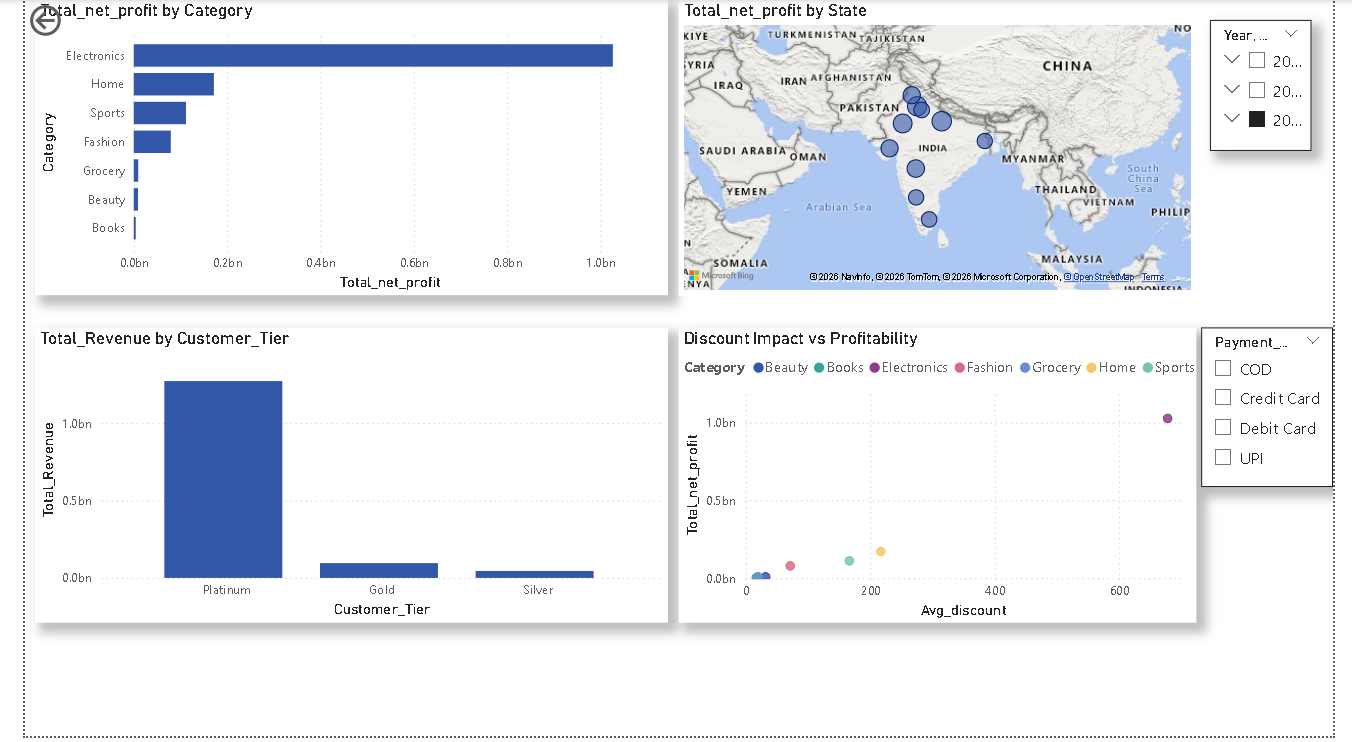

The page's visual inventory and layout, read from the dashboard file:
{"tool":"powerbi","page":{"name":"Market and Customer Analytics","canvas":[1280,720],"ordinal":1},"visuals":[{"type":"clusteredBarChart","fields":{"Category":["indian_commerce_db products.Category"],"Y":["indian_commerce_db sales.Total_net_profit"]},"box":[10,0,619,289],"z":0},{"type":"actionButton","box":[0,0,100,40],"z":1000},{"type":"map","fields":{"Category":["indian_commerce_db sales.State"],"Size":["indian_commerce_db sales.Total_net_profit"]},"box":[640,0,506,289],"z":2000},{"type":"clusteredColumnChart","fields":{"Category":["indian_commerce_db customers.Customer_Tier"],"Y":["indian_commerce_db sales.Total_Revenue"]},"box":[10,320,619,289],"z":3000},{"type":"scatterChart","title":"Discount Impact vs Profitability","fields":{"X":["indian_commerce_db sales.Avg_discount_perc"],"Y":["indian_commerce_db sales.Total_net_profit"],"Series":["indian_commerce_db products.Category"]},"box":[640,320,506,289],"z":3001},{"type":"slicer","fields":{"Values":["indian_commerce_db sales.Order_Date.Variation.Date Hierarchy.Year","indian_commerce_db sales.Order_Date.Variation.Date Hierarchy.Quarter","indian_commerce_db sales.Order_Date.Variation.Date Hierarchy.Month","indian_commerce_db sales.Order_Date.Variation.Date Hierarchy.Day"]},"box":[1159,20,99,128],"z":3002},{"type":"slicer","fields":{"Values":["indian_commerce_db sales.Payment_Mode"]},"box":[1151,320,129,156],"z":3003}]}

Visuals, with their boxes in screenshot pixels (x1, y1, x2, y2), scaled from the page's 1280x720 canvas onto the 1352x742 screenshot:
clusteredBarChart - indian_commerce_db products.Category x indian_commerce_db sales.Total_net_profit: 11:0:664:298
actionButton: 0:0:106:41
map - indian_commerce_db sales.State x indian_commerce_db sales.Total_net_profit: 676:0:1210:298
clusteredColumnChart - indian_commerce_db customers.Customer_Tier x indian_commerce_db sales.Total_Revenue: 11:330:664:628
"Discount Impact vs Profitability" scatterChart: 676:330:1210:628
slicer - indian_commerce_db sales.Order_Date.Variation.Date Hierarchy.Year x indian_commerce_db sales.Order_Date.Variation.Date Hierarchy.Quarter: 1224:21:1329:153
slicer - indian_commerce_db sales.Payment_Mode: 1216:330:1351:491
